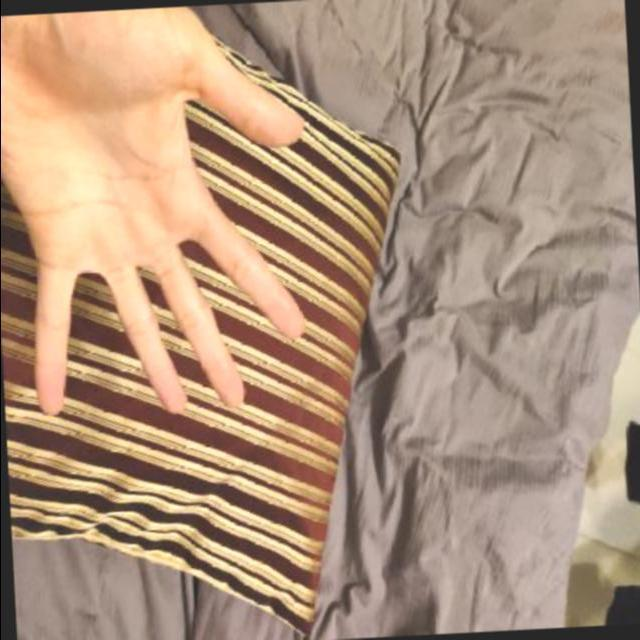Hand: (0, 0, 342, 419)
